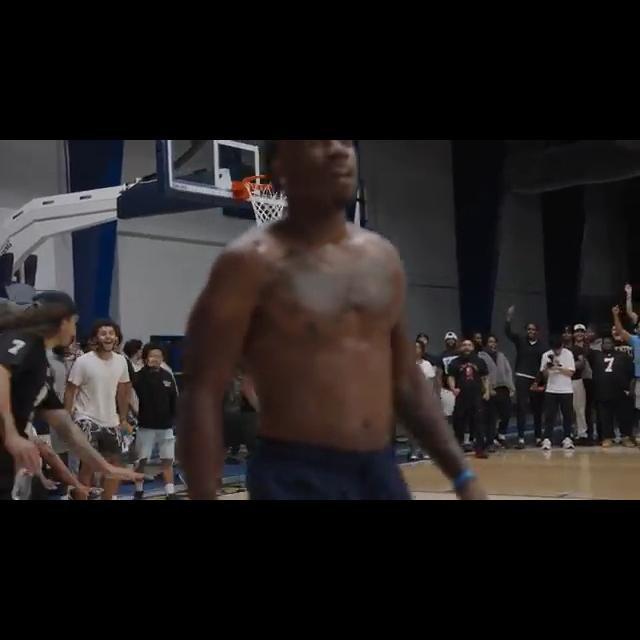hoop: (242, 174, 286, 225)
